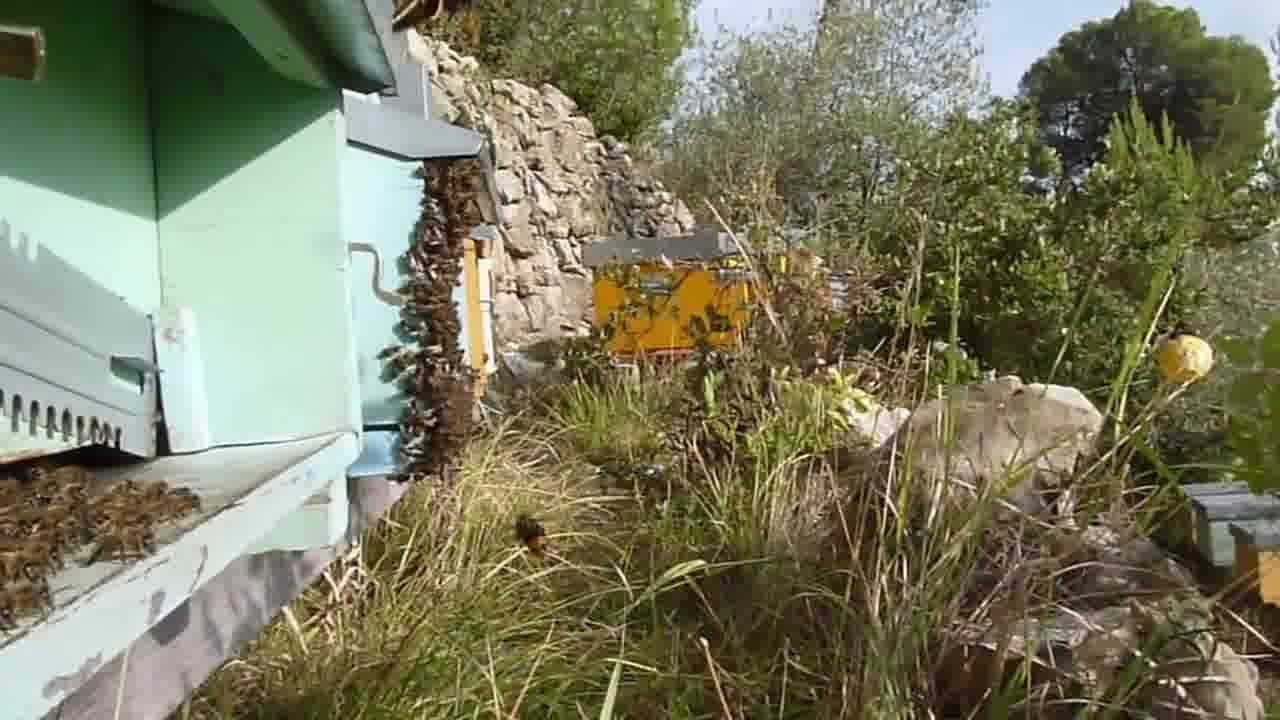bee: (372, 337, 478, 431), (1, 471, 61, 629), (64, 470, 207, 520), (413, 152, 487, 244), (401, 242, 468, 337), (67, 516, 175, 564), (396, 427, 475, 487)
hornet: (499, 503, 564, 570)
